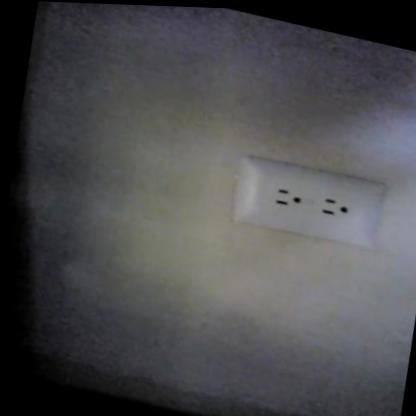OUTLET: (226, 151, 388, 250)
